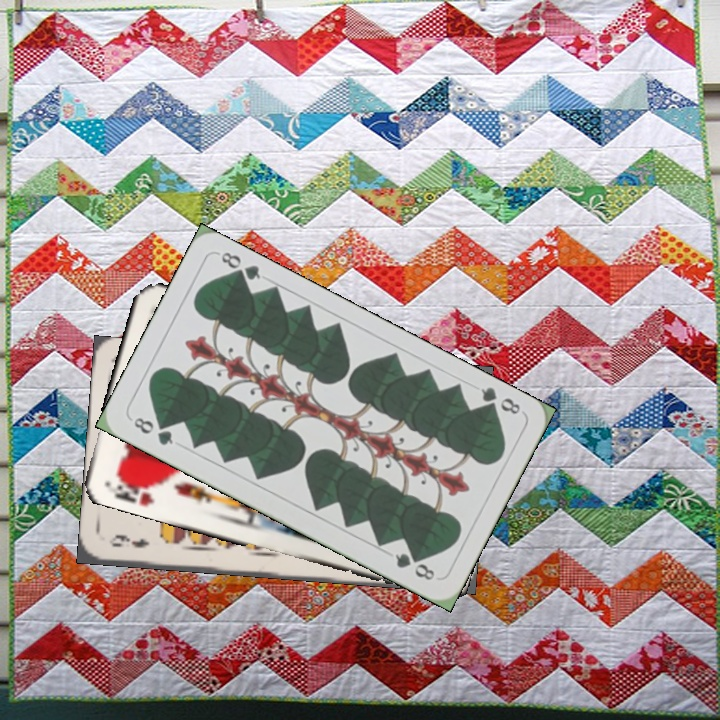E9: (105, 530, 152, 551)
G8: (129, 413, 176, 448), (476, 382, 523, 417)
HK: (110, 472, 161, 509)
